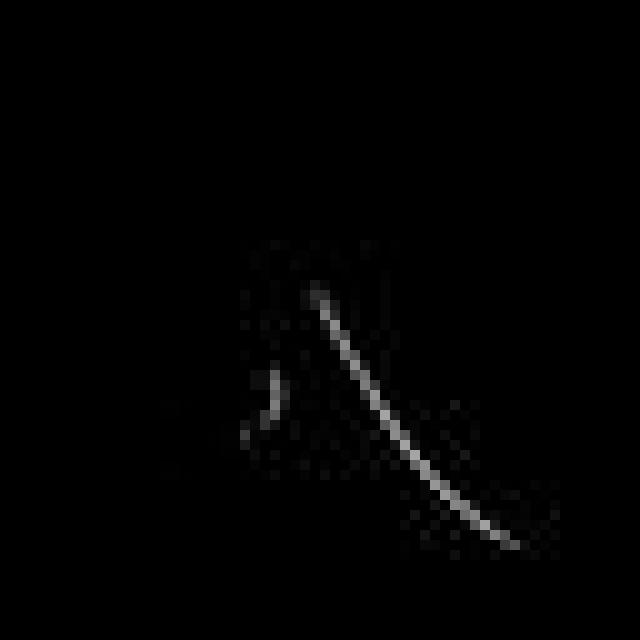8 -eight-: (237, 286, 532, 571)
